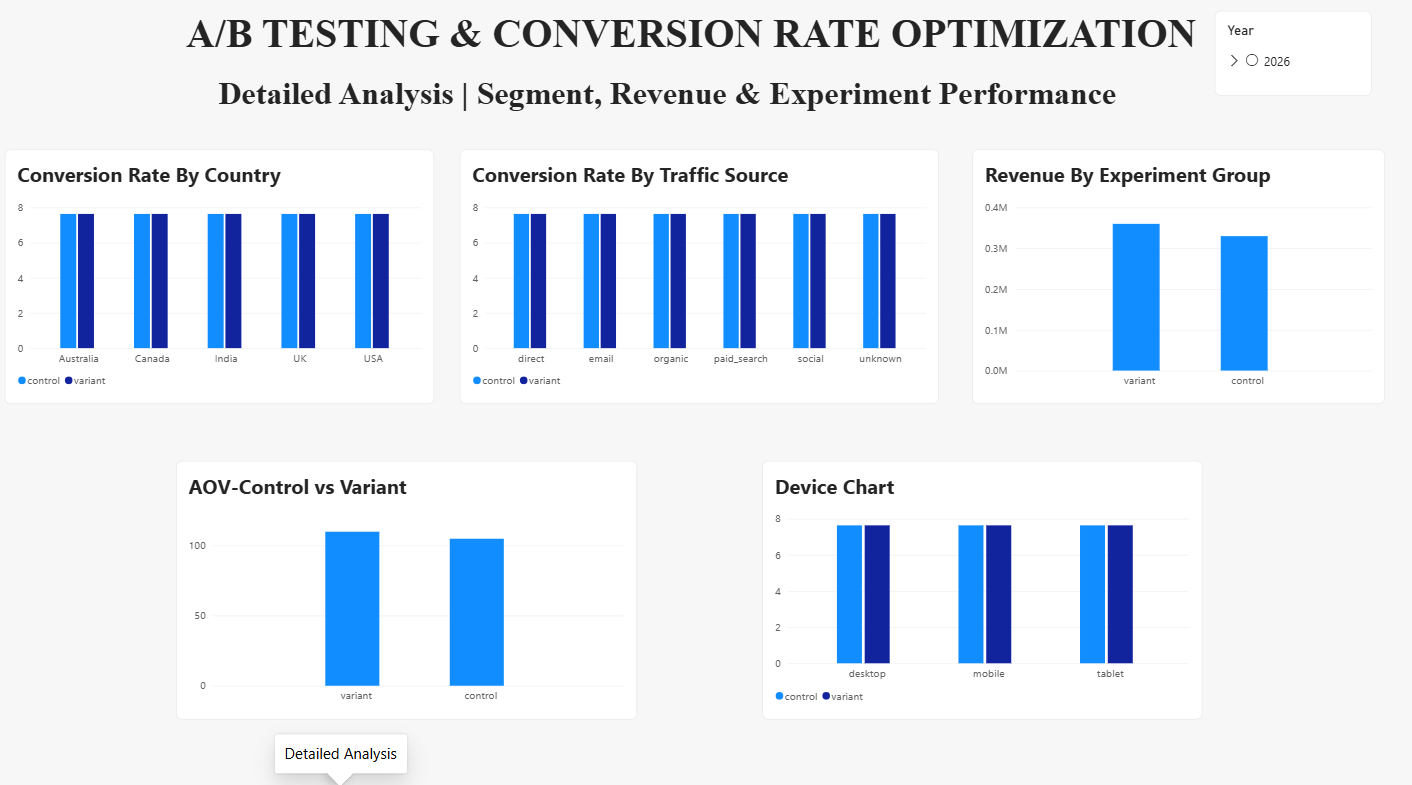

Layout of this report page (visuals, bound fields, positions):
{"tool":"powerbi","page":{"name":"Detailed Analysis","canvas":[1920,1080],"ordinal":1},"visuals":[{"type":"clusteredColumnChart","title":"Device Chart","fields":{"Series":["public_experiment_sessions.experiment_group"],"Category":["public_experiment_sessions.device_type"],"Y":["Sum(public experiment_daily_summary.conversion_rate)"]},"box":[1043,640.1,587.8,345.3],"z":0},{"type":"listSlicer","fields":{"Values":["public_experiment_sessions.session_date.Variation.Date Hierarchy.Year","public_experiment_sessions.session_date.Variation.Date Hierarchy.Quarter","public_experiment_sessions.session_date.Variation.Date Hierarchy.Month","public_experiment_sessions.session_date.Variation.Date Hierarchy.Day"]},"box":[1648.3,38.4,209.3,113.4],"z":1000},{"type":"textbox","box":[259.9,38.4,1444.2,68],"z":2000},{"type":"textbox","box":[317.4,123.8,1262.8,76.7],"z":3000},{"type":"clusteredColumnChart","title":"Conversion Rate By Traffic Source","fields":{"Category":["public_experiment_sessions.traffic_source"],"Series":["public_experiment_sessions.experiment_group"],"Y":["Sum(public experiment_daily_summary.conversion_rate)"]},"box":[640.1,223.3,640.1,340.1],"z":4000},{"type":"clusteredColumnChart","title":"Revenue By Experiment  Group","fields":{"Category":["public_experiment_sessions.experiment_group"],"Y":["public_experiment_sessions.Total Revenue"]},"box":[1323.8,223.3,551.2,340.1],"z":5000},{"type":"clusteredColumnChart","title":"AOV-Control vs Variant","fields":{"Category":["public_experiment_sessions.experiment_group"],"Y":["public_experiment_sessions.AOV"]},"box":[259.9,640.1,615.7,345.3],"z":6000},{"type":"clusteredColumnChart","title":"Conversion Rate By Country","fields":{"Category":["public_experiment_sessions.country"],"Series":["public_experiment_sessions.experiment_group"],"Y":["Sum(public experiment_daily_summary.conversion_rate)"]},"box":[31.4,223.3,573.8,340.1],"z":7000}]}

Visuals, with their boxes in screenshot pixels (x1, y1, x2, y2), scaled from the page's 1920x1080 canvas onto the 1412x785 screenshot:
"Device Chart" clusteredColumnChart: detection(767, 465, 1199, 716)
listSlicer - public_experiment_sessions.session_date.Variation.Date Hierarchy.Year x public_experiment_sessions.session_date.Variation.Date Hierarchy.Quarter: detection(1212, 28, 1366, 110)
textbox: detection(191, 28, 1253, 77)
textbox: detection(233, 90, 1162, 146)
"Conversion Rate By Traffic Source" clusteredColumnChart: detection(471, 162, 941, 410)
"Revenue By Experiment  Group" clusteredColumnChart: detection(974, 162, 1379, 410)
"AOV-Control vs Variant" clusteredColumnChart: detection(191, 465, 644, 716)
"Conversion Rate By Country" clusteredColumnChart: detection(23, 162, 445, 410)
